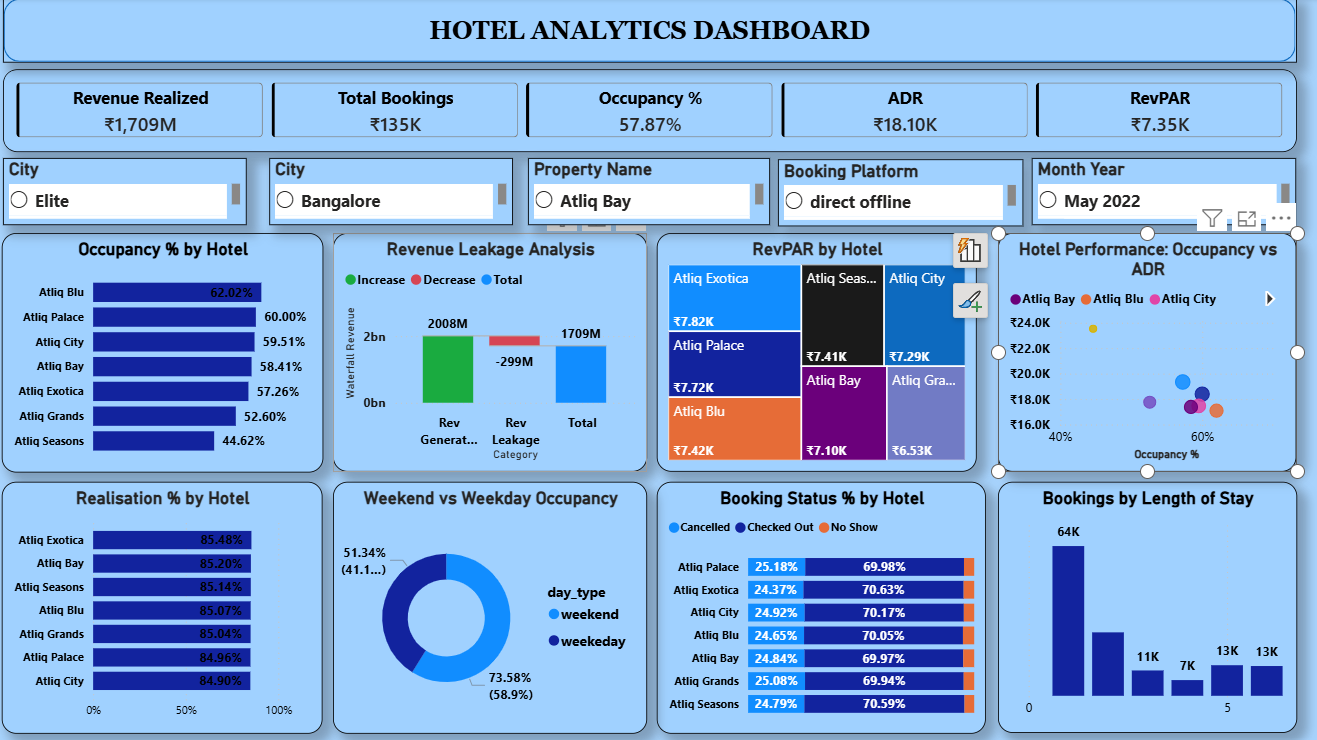

This screenshot's page, from the dashboard's own definition file:
{"tool":"powerbi","page":{"name":"Sheet 1","canvas":[1280,720],"ordinal":0},"visuals":[{"type":"clusteredBarChart","title":"Occupancy % by Hotel","fields":{"Category":["dim_hotels4.property_name"],"Y":["dim_date5.Occupancy %"]},"box":[8.7,226.5,310.2,230.8],"z":0},{"type":"waterfallChart","title":"Revenue Leakage Analysis","fields":{"Category":["Water fall Categories.Category"],"Y":["Water fall Categories.Waterfall Revenue"]},"box":[328.2,226.8,302.8,230.4],"z":1000},{"type":"treemap","title":"RevPAR by Hotel","fields":{"Group":["dim_hotels4.property_name"],"Values":["dim_date5.RevPAR"]},"box":[640.6,226.8,318.5,230.4],"z":2000},{"type":"barChart","title":"Realisation % by Hotel","fields":{"Category":["dim_hotels4.property_name"],"Y":["dim_date5.Realisation %"]},"box":[8.6,467.1,309.4,243.3],"z":3000},{"type":"hundredPercentStackedBarChart","title":"Booking Status % by Hotel","fields":{"Category":["dim_hotels4.property_name"],"Series":["fact_bookings1.booking_status"],"Y":["CountNonNull(fact_bookings1.booking_id)"]},"box":[640.8,467.1,317.9,243.3],"z":4000},{"type":"donutChart","title":"Weekend vs Weekday Occupancy","fields":{"Category":["dim_date5.day_type"],"Y":["dim_date5.Occupancy %"]},"box":[327.7,467.1,303.3,243.3],"z":5000},{"type":"columnChart","title":"Bookings by Length of Stay","fields":{"Category":["fact_bookings1.Length of Stay"],"Y":["CountNonNull(fact_bookings1.booking_id)"]},"box":[969.5,467.5,288.6,242.4],"z":6000},{"type":"scatterChart","title":"Hotel Performance: Occupancy vs ADR","fields":{"Series":["dim_hotels4.property_name"],"Size":["Sum(fact_bookings1.revenue_realized)"],"X":["dim_date5.Occupancy %"],"Y":["dim_date5.ADR"]},"box":[959.4,226.5,299.2,230.4],"z":8000},{"type":"cardVisual","fields":{"Data":["dim_date5.Revenue Realized","dim_date5.Total Bookings","dim_date5.Occupancy %","dim_date5.ADR","dim_date5.RevPAR"]},"box":[9.7,68.8,1248.7,79.6],"z":9000},{"type":"listSlicer","title":"City","fields":{"Values":["dim_hotels4.city"]},"box":[266.9,154.4,235.2,64.9],"z":10000},{"type":"listSlicer","title":"Property Name","fields":{"Values":["dim_hotels4.property_name"]},"box":[516.5,154.4,233.7,64.9],"z":11000},{"type":"listSlicer","title":"Booking Platform","fields":{"Values":["fact_bookings1.booking_platform"]},"box":[757.4,155.8,236.6,64.9],"z":12000},{"type":"listSlicer","fields":{"Values":["dim_date5.Month Year"]},"box":[1002.7,154.4,255.4,64.9],"z":13000},{"type":"listSlicer","title":"City","fields":{"Values":["dim_rooms3.room_class"]},"box":[10.1,154.4,235.2,64.9],"z":14000},{"type":"shape","box":[9.7,0,1248.7,62.7],"z":14500}]}

Visuals, with their boxes in screenshot pixels (x1, y1, x2, y2), scaled from the page's 1280x720 canvas onto the 1317x740 screenshot:
"Occupancy % by Hotel" clusteredBarChart: 9,233,328,470
"Revenue Leakage Analysis" waterfallChart: 338,233,649,470
"RevPAR by Hotel" treemap: 659,233,987,470
"Realisation % by Hotel" barChart: 9,480,327,730
"Booking Status % by Hotel" hundredPercentStackedBarChart: 659,480,986,730
"Weekend vs Weekday Occupancy" donutChart: 337,480,649,730
"Bookings by Length of Stay" columnChart: 998,480,1294,730
"Hotel Performance: Occupancy vs ADR" scatterChart: 987,233,1295,470
cardVisual - dim_date5.Revenue Realized x dim_date5.Total Bookings: 10,71,1295,153
"City" listSlicer: 275,159,517,225
"Property Name" listSlicer: 531,159,772,225
"Booking Platform" listSlicer: 779,160,1023,227
listSlicer - dim_date5.Month Year: 1032,159,1294,225
"City" listSlicer: 10,159,252,225
shape: 10,0,1295,64
